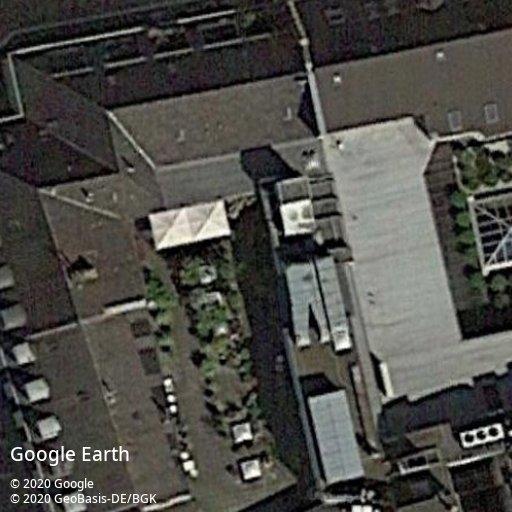Chiller: (457, 422, 507, 451)
